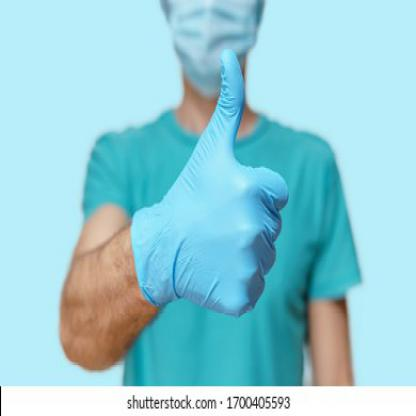with_gloves: (130, 47, 291, 318)
